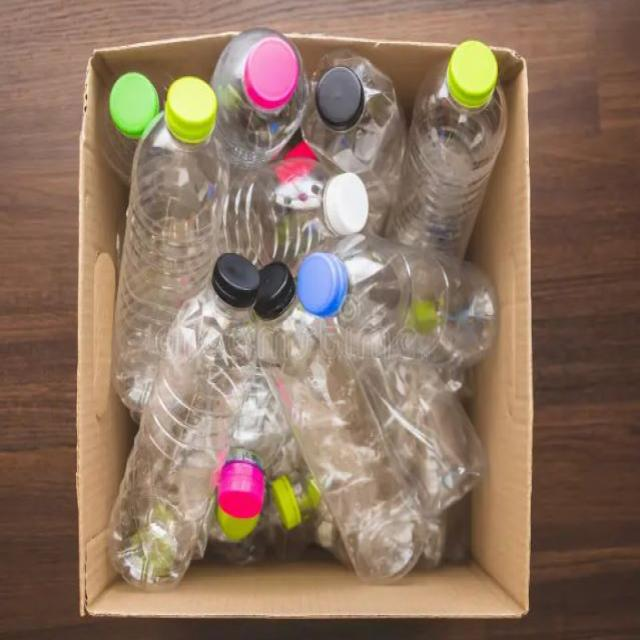plastic: (117, 146, 221, 555)
